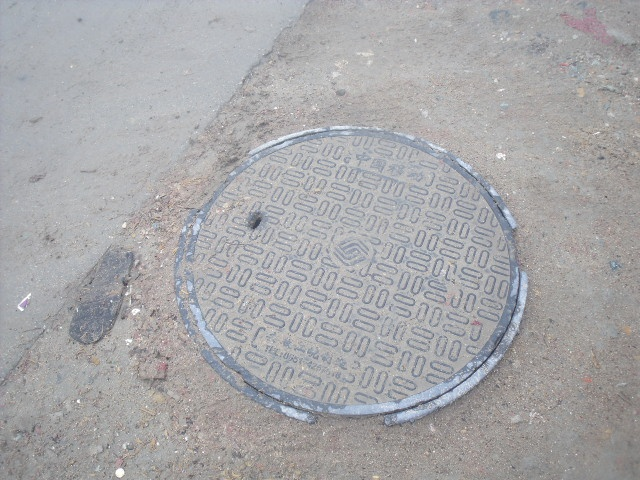good: (176, 124, 527, 425)
